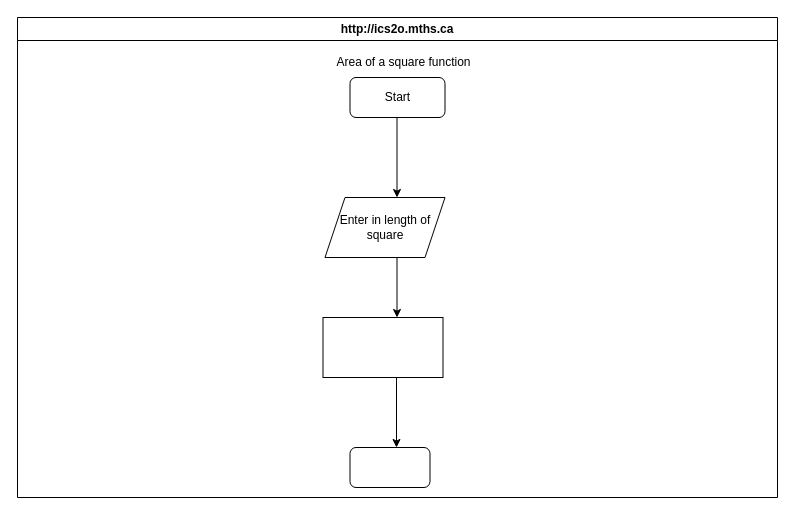
Some shapes in this 795 by 515 pixel diagram are drawn without their labels. The centre of each missing label's shape, as x and y in pixels:
"area = length * length" belongs at (x=382, y=347).
"Stop" belongs at (x=389, y=467).
